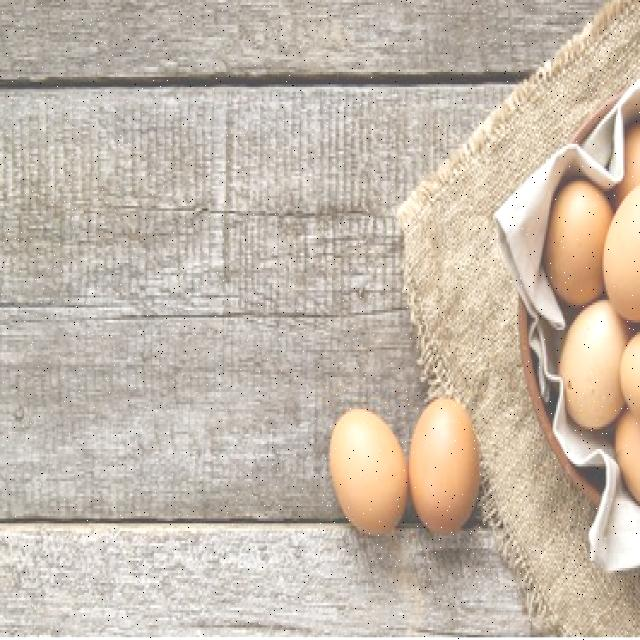Brown Egg: (410, 391, 488, 542), (329, 406, 409, 537), (604, 164, 640, 322), (619, 323, 640, 439)
